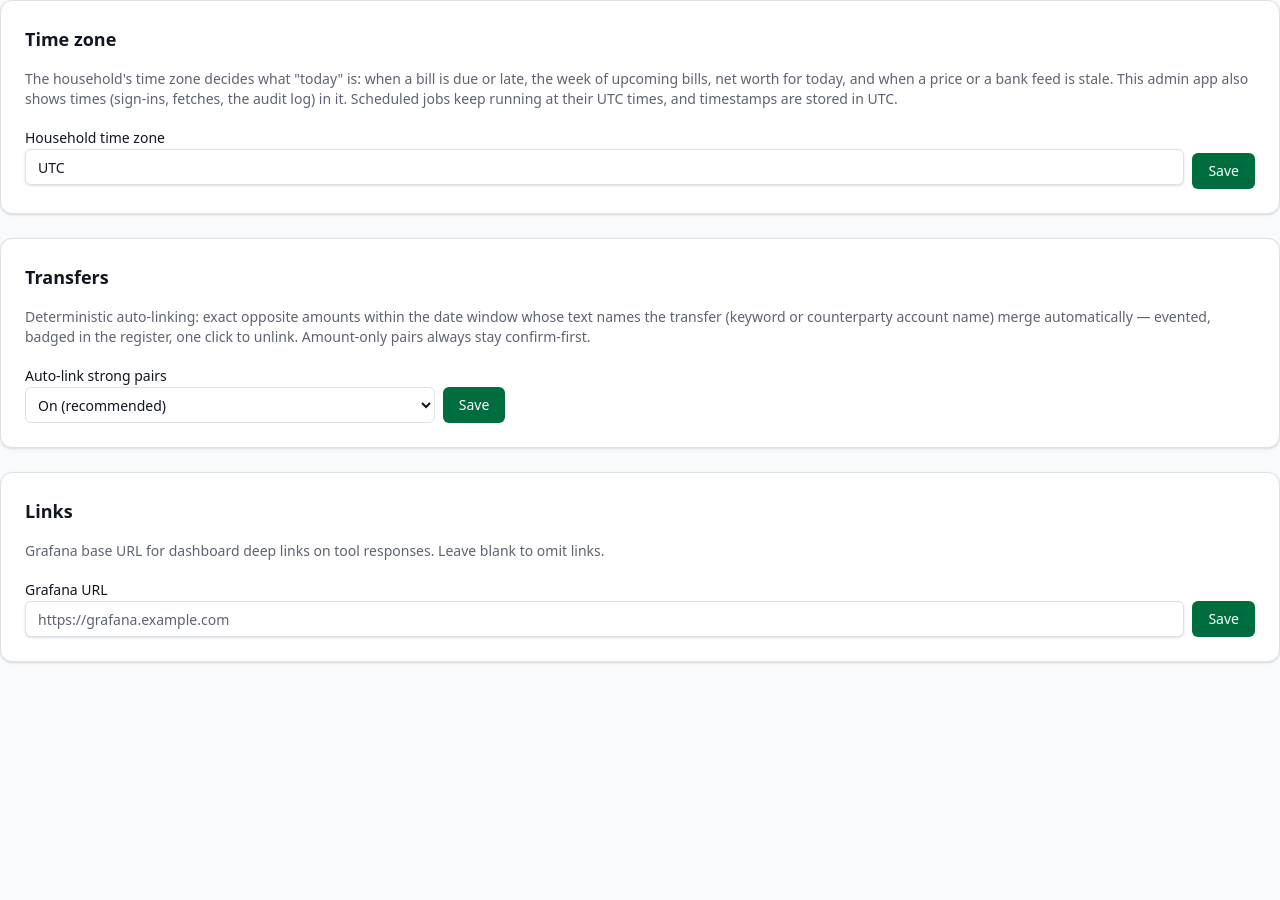
Test: Settings, General: household time zone (#471) › shows the server's refusal of an unknown zone
The image size is (1280, 900).
Clear the field labelled "Household time zone" at (605, 167), box [25,149,1184,185]
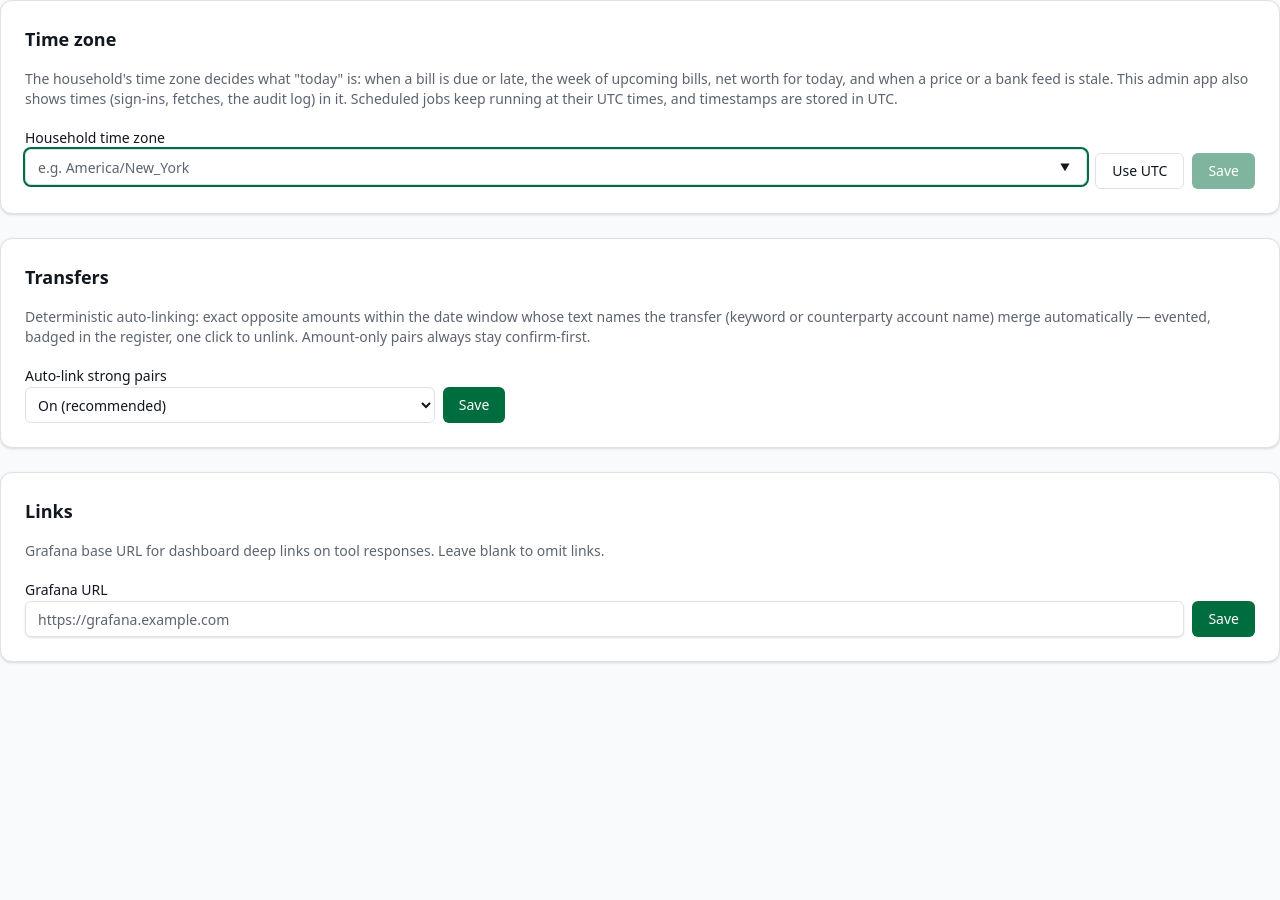
Type "Mars/Olympus_Mons" into the field labelled "Household time zone".
click(556, 167); type("Mars/Olympus_Mons")  # box [25,149,1087,185]
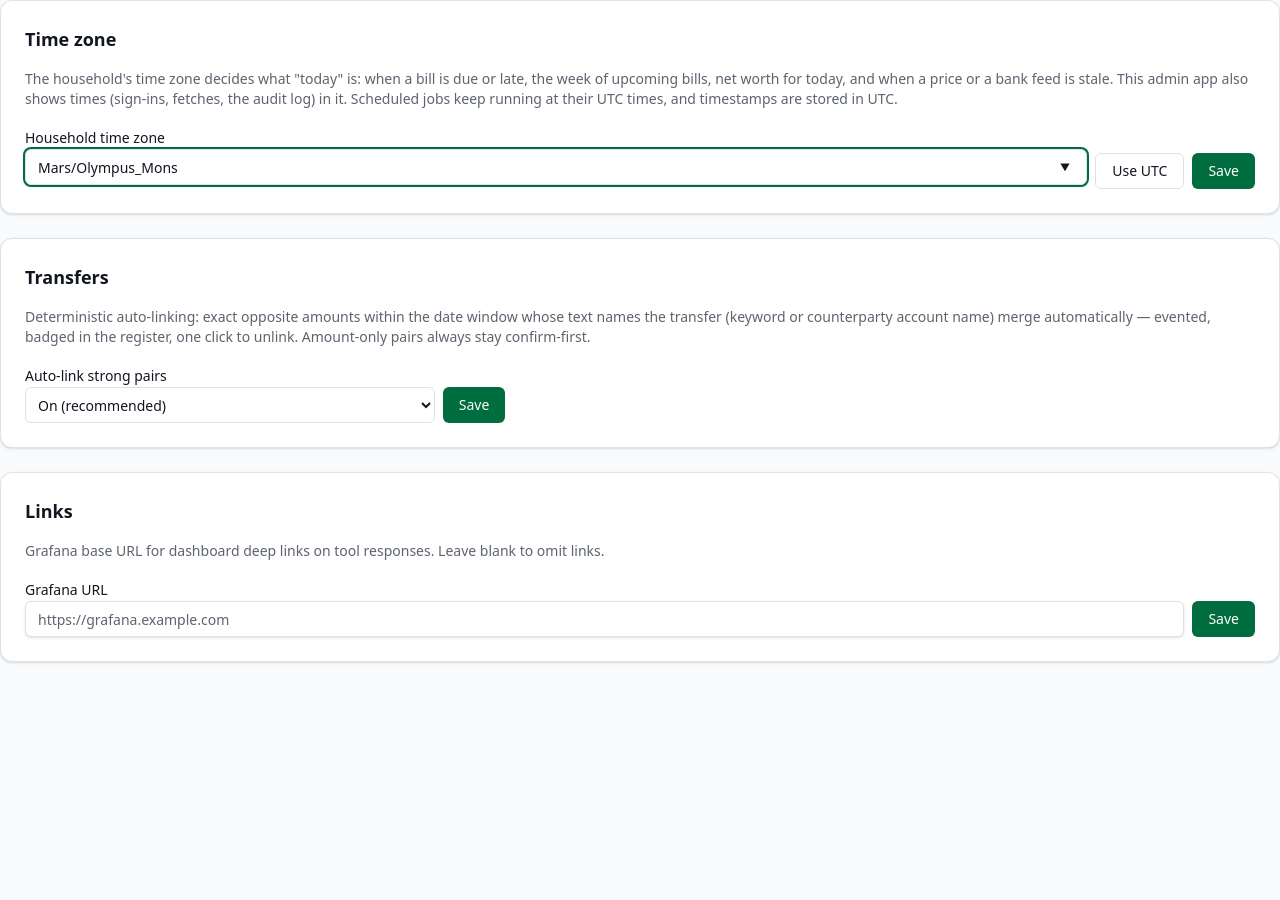
Click the 1st button "Save".
click(1224, 171)  # box [1192,153,1255,189]
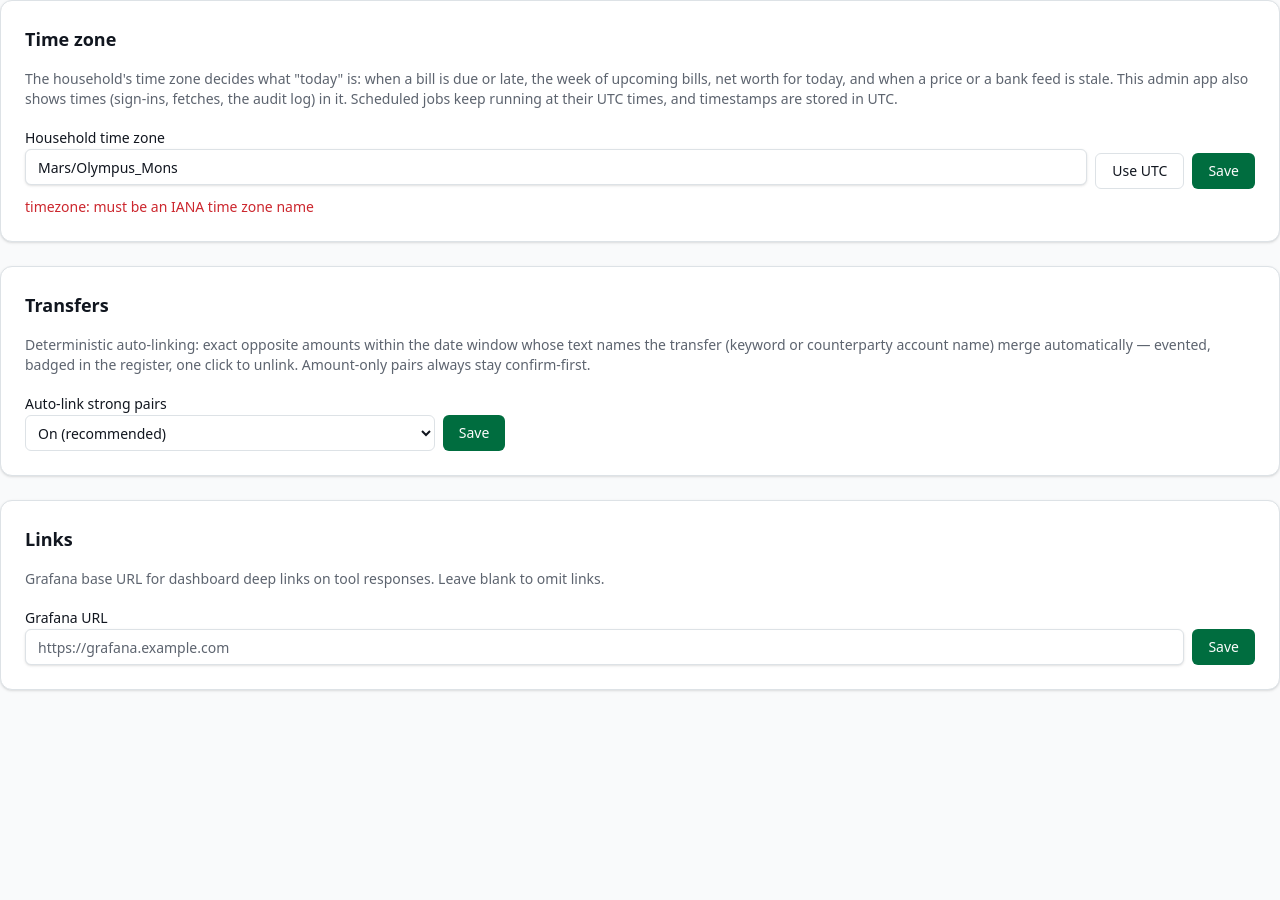
Check: the text "timezone: must be an IANA time zone name" is shown, box [25,197,314,216]
